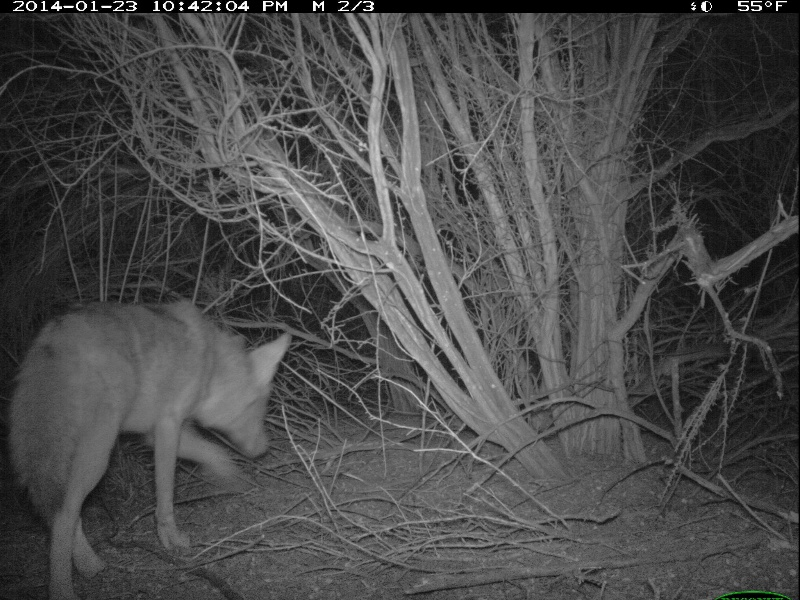coyote: (5, 294, 297, 600)
